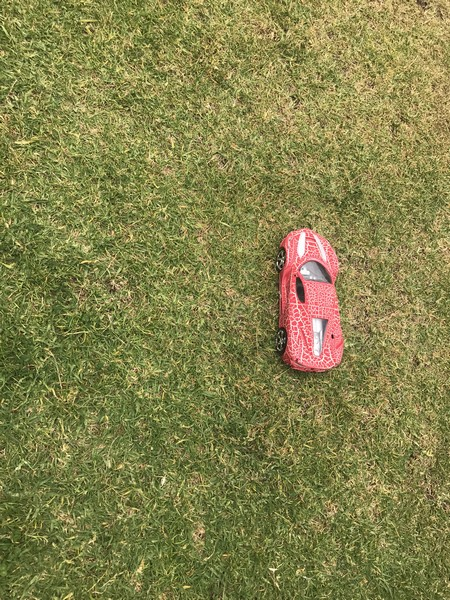RC: (274, 227, 343, 375)
